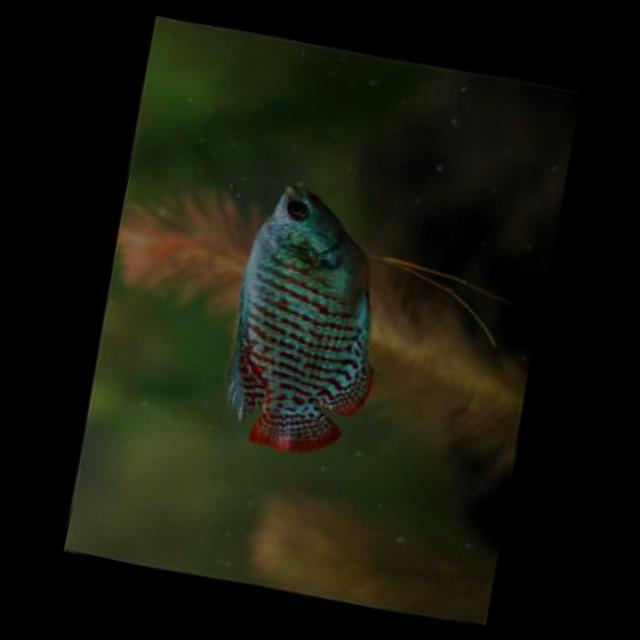Gourami: (196, 171, 412, 471)
